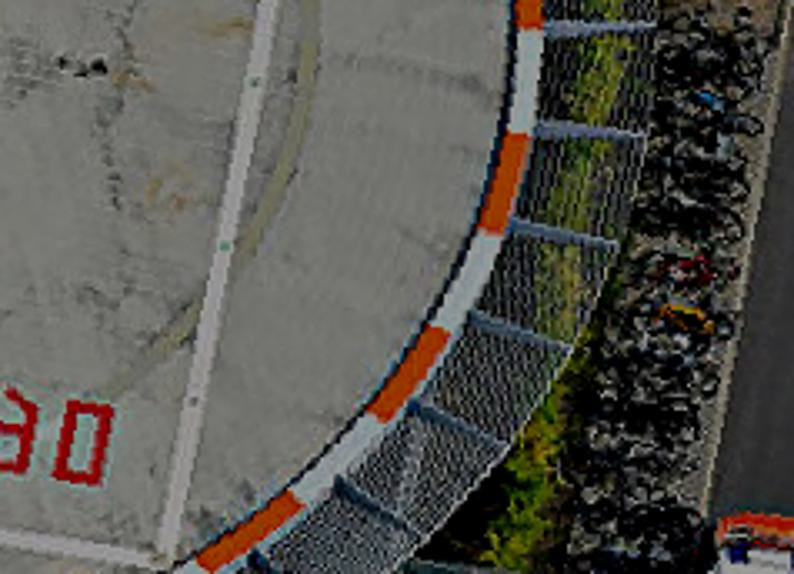Apron: (1, 1, 323, 460)
